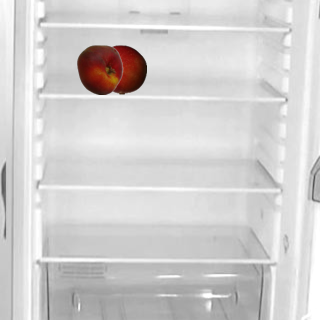Apple Braeburn: (96, 44, 146, 94)
Nectarine Flat: (74, 44, 124, 94)
